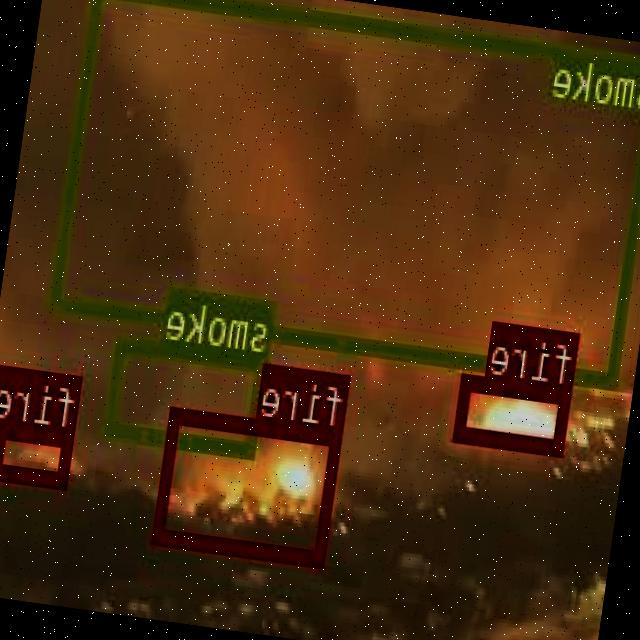fire: (156, 406, 344, 563), (456, 374, 574, 454), (0, 421, 76, 487)
smoke: (52, 0, 640, 385), (105, 334, 271, 454)
